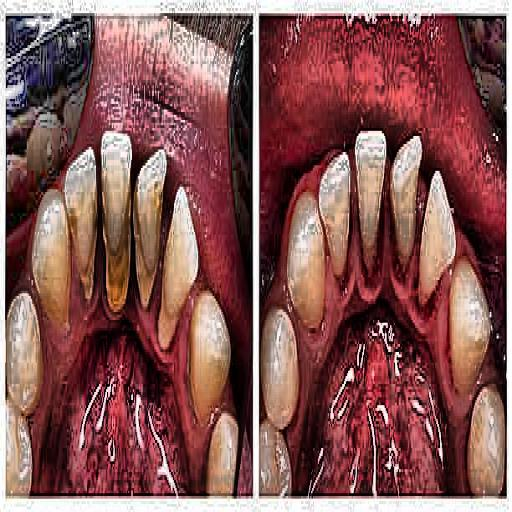Calculus: (6, 166, 236, 497)
